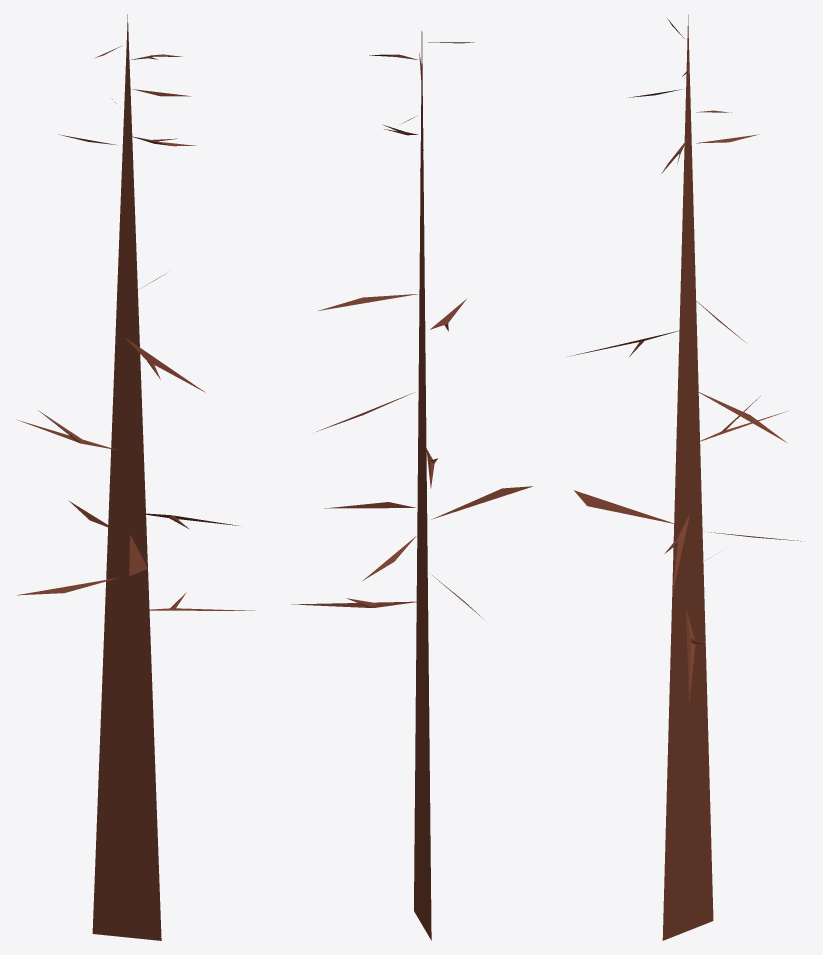
Rendered from pine_dead_type_2_LOD2.fbx.
3 views of the same model, side by side, from view 1: azimuth 30°, elevation 25°; view 2: azimuth 150°, elevation 25°; view 3: azimuth 270°, elevation 25° (orthographic).
Parts seen in each view (by area): view 1: pine_trunk.007; view 2: pine_trunk.007; view 3: pine_trunk.007.
Part boxes in pixels (x1,y1,x2,y2): pine_trunk.007: (16,14,254,940); pine_trunk.007: (291,31,532,940); pine_trunk.007: (567,14,801,940).
Bounding box in the file's own units: 600 × 2377 × 576.
